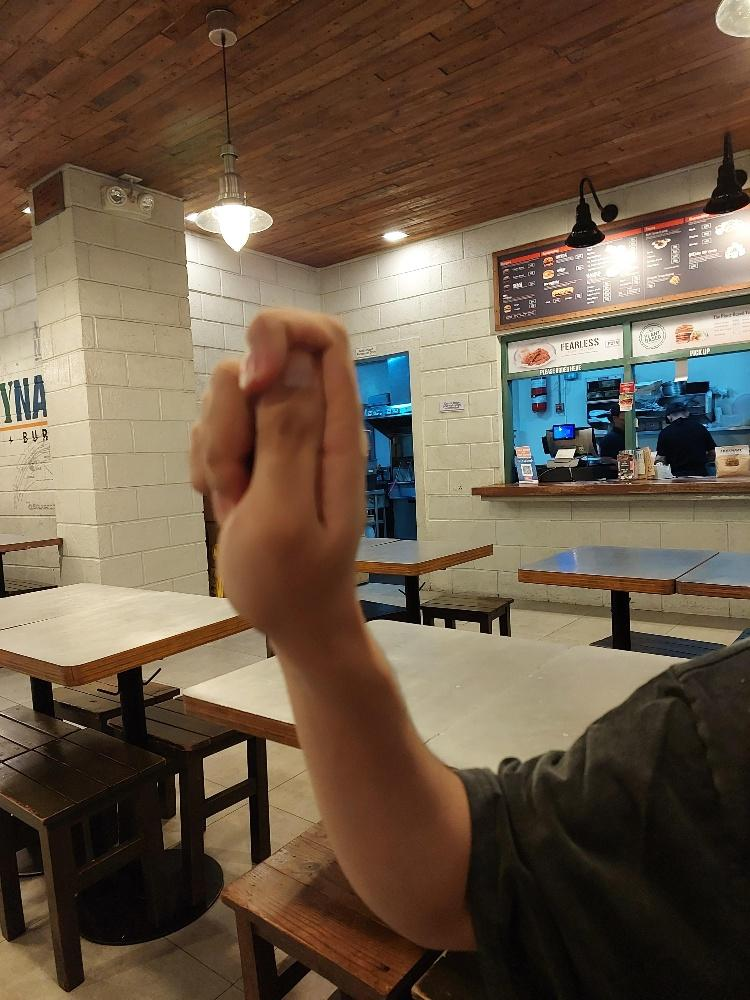t: (185, 306, 368, 633)
